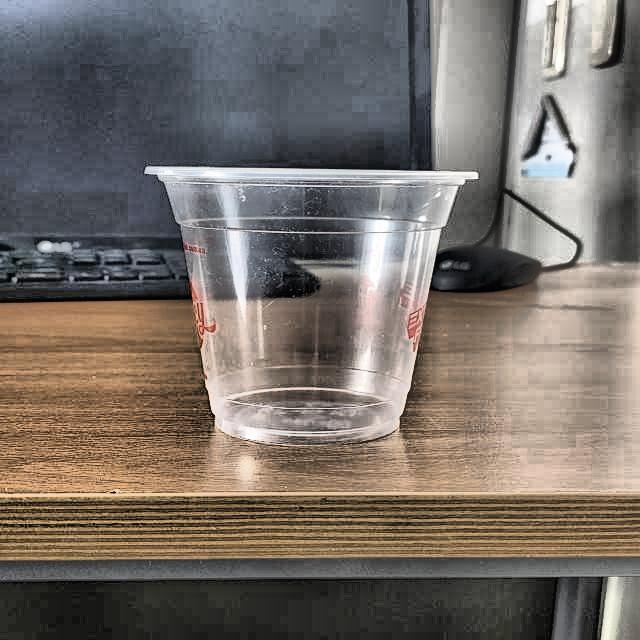plastic cup: (144, 164, 481, 444)
